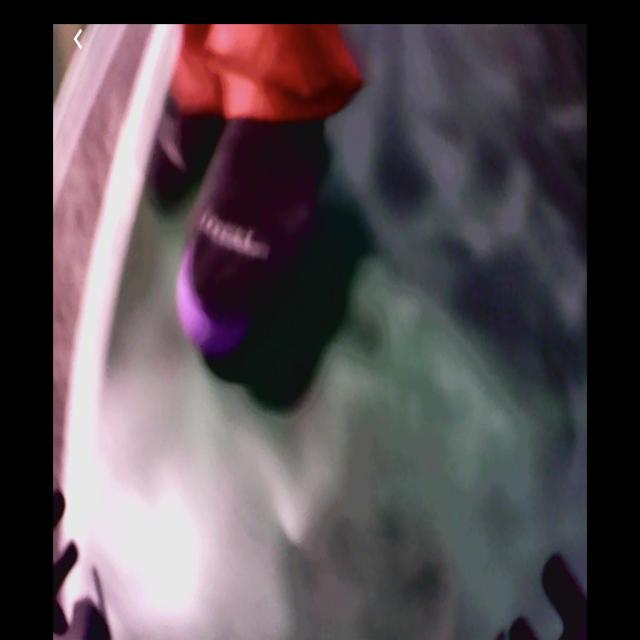ball: (179, 246, 249, 354)
